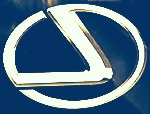Lexus: (1, 1, 150, 114)
